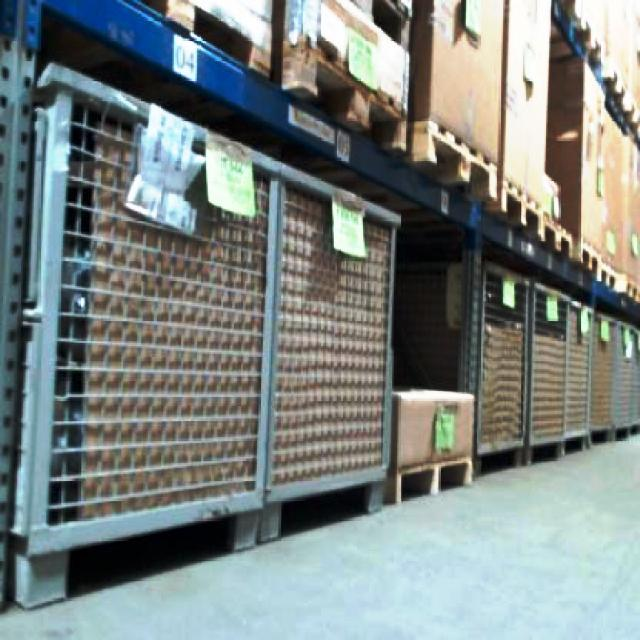ground: (0, 406, 638, 638)
pallet: (385, 385, 475, 505)
